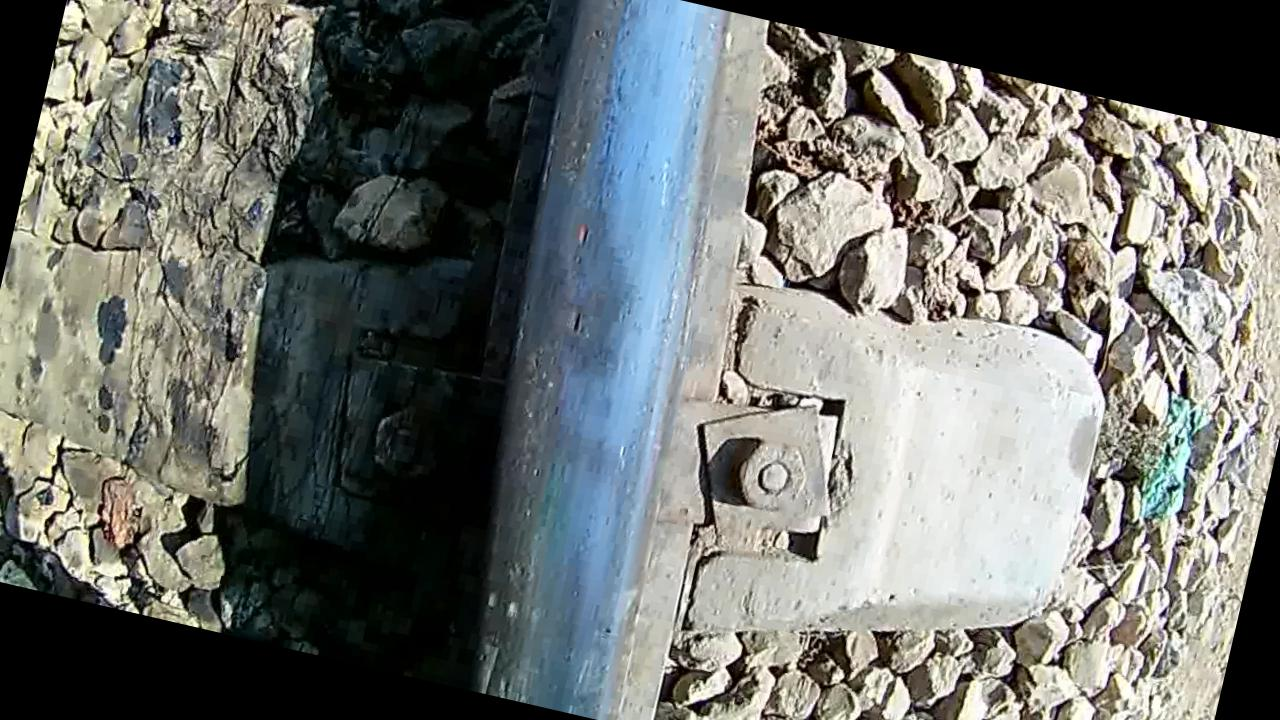crack: (418, 0, 767, 720)
